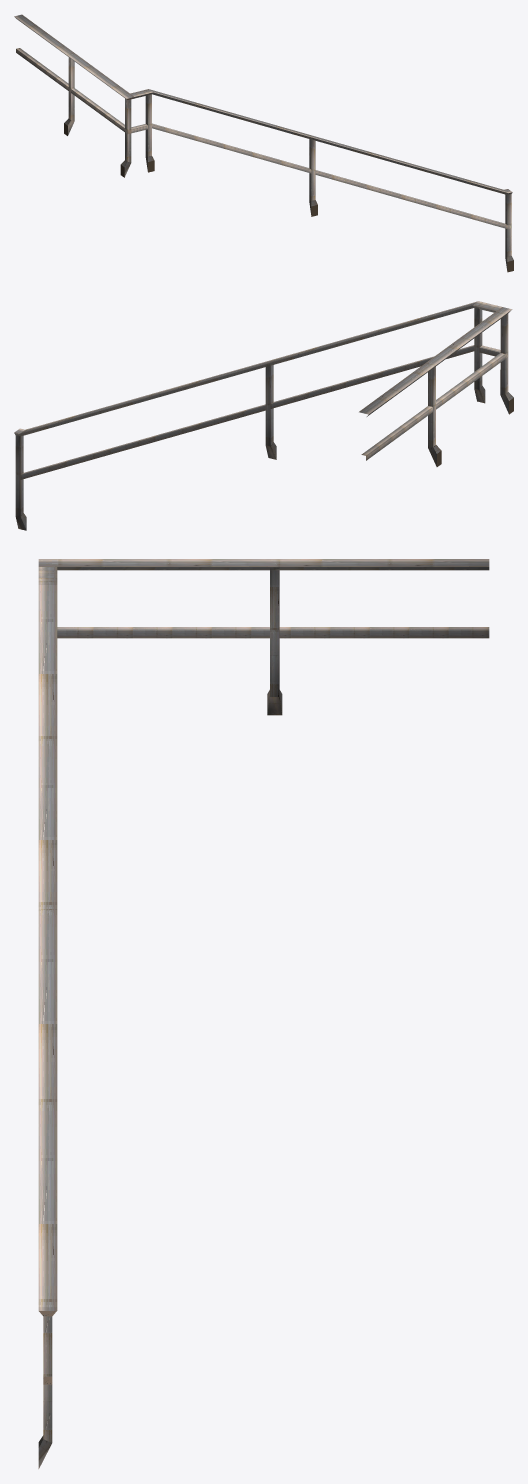
File: M11Z2_SCUDHouse02_F.glb
The picture shows the model from 3 angles, top to bottom: view 1: azimuth 30°, elevation 25°; view 2: azimuth 150°, elevation 25°; view 3: azimuth 270°, elevation 25°; orthographic projection. The views are drawn at different scales.
Visible parts, largest first — view 1: M11Z2_SCUDHOUSE02_F; view 2: M11Z2_SCUDHOUSE02_F; view 3: M11Z2_SCUDHOUSE02_F.
Boxes of the visible parts, box(x1,y1,x2,y2) form: M11Z2_SCUDHOUSE02_F: box(14, 14, 513, 272); M11Z2_SCUDHOUSE02_F: box(14, 301, 513, 530); M11Z2_SCUDHOUSE02_F: box(38, 559, 489, 1468).
Size of the model in its own units: 5.98 by 3.91 by 3.
Materials: 2 (2 with a texture image).
